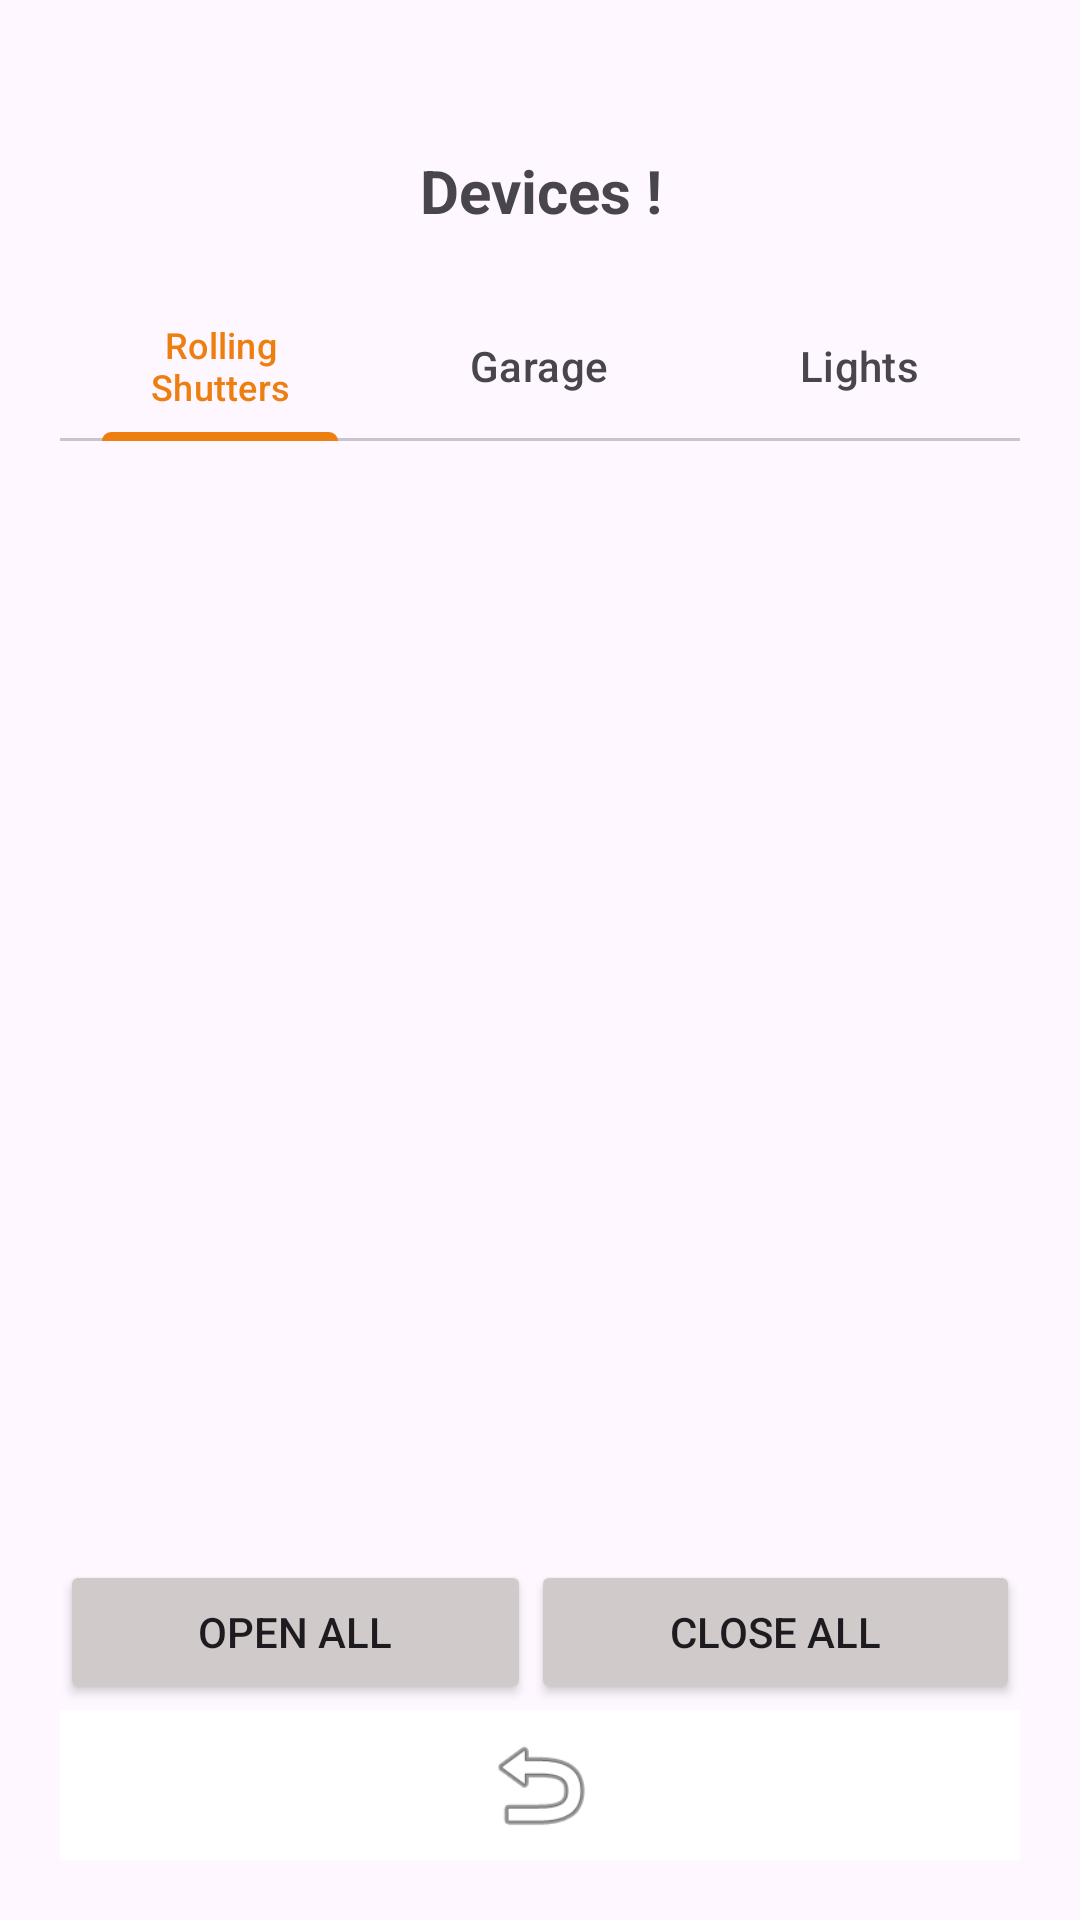

Named icons in this screenshot (1080px x 1920px) and their centers, [x,y]:
revert: [541,1785]
